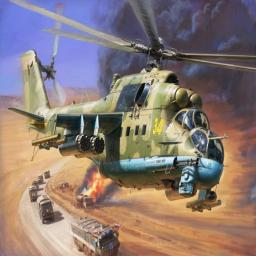helicopter: (20, 3, 246, 232)
